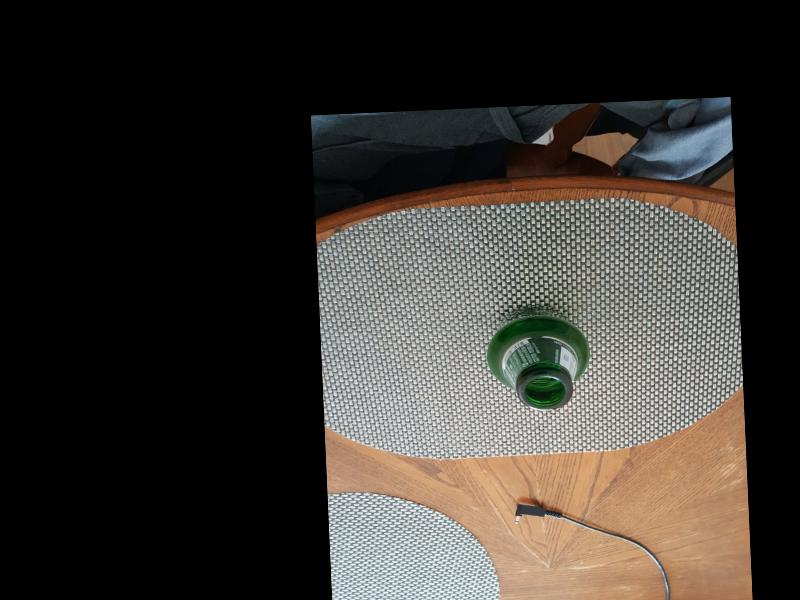Beer: (489, 304, 586, 411)
